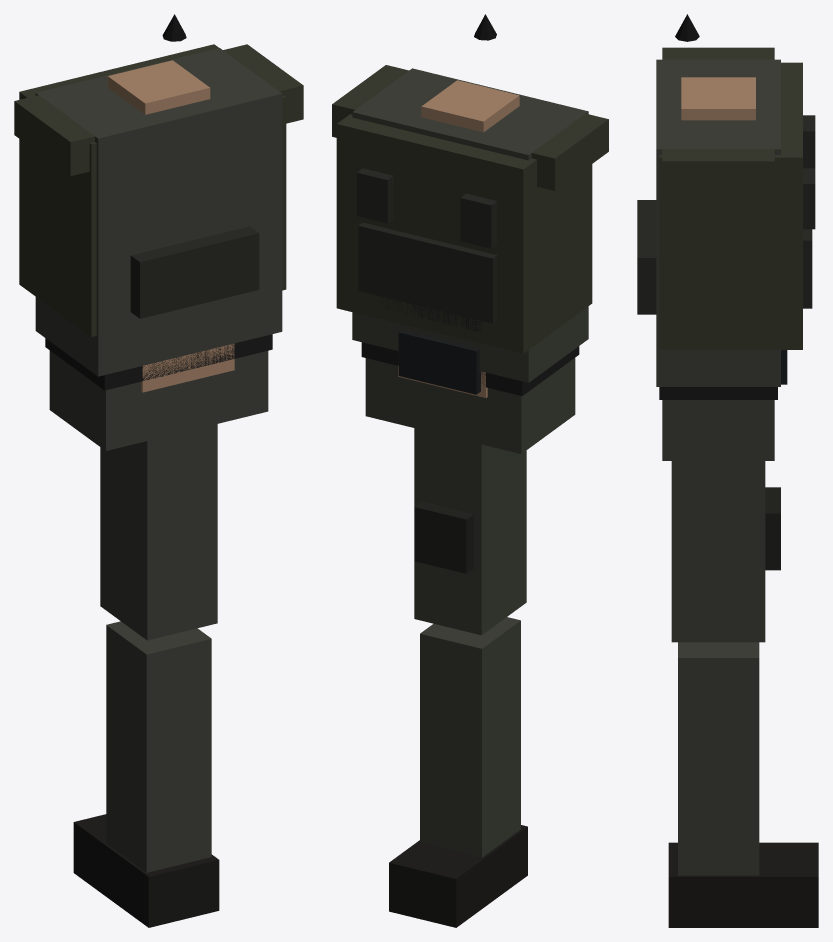
File: operator_blitz.glb
3 views of the same model, side by side, from view 1: azimuth 30°, elevation 25°; view 2: azimuth 150°, elevation 25°; view 3: azimuth 270°, elevation 25° (orthographic). The views are drawn at different scales.
Parts seen in each view (by area): view 1: torso, legL, hips, head; view 2: torso, legL, hips, head; view 3: torso, legL, hips, head.
Boxes of the visible parts, x1,y1,x2,y2 form: torso: [14, 14, 303, 376]; legL: [73, 424, 219, 927]; hips: [45, 334, 272, 450]; head: [130, 226, 259, 392]; torso: [332, 14, 608, 382]; legL: [389, 428, 527, 927]; hips: [361, 342, 579, 453]; head: [379, 296, 487, 397]; torso: [656, 14, 815, 386]; legL: [668, 461, 818, 927]; hips: [659, 387, 777, 460]; head: [637, 200, 787, 384].
Bounding box in the file's own units: 0.43 × 1.58 × 0.29.
